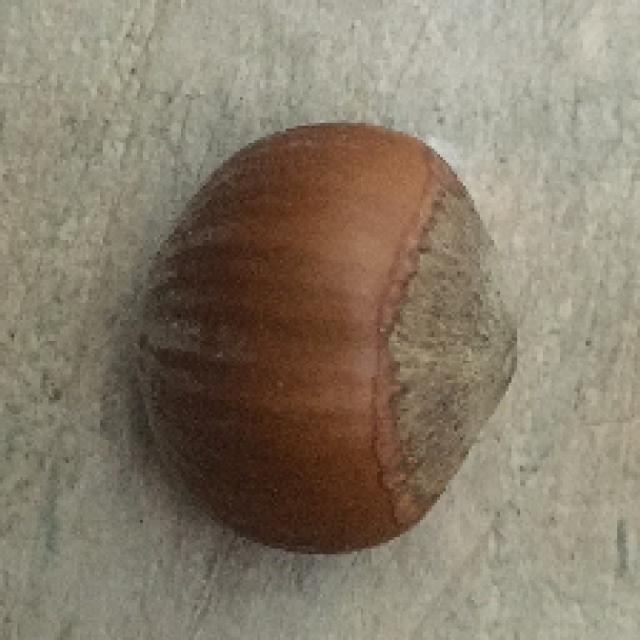QualityHazelnut: (130, 119, 518, 552)
